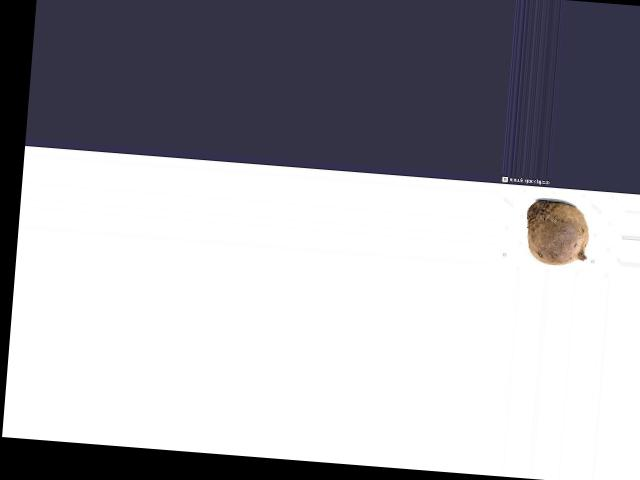beet: (524, 198, 591, 267)
